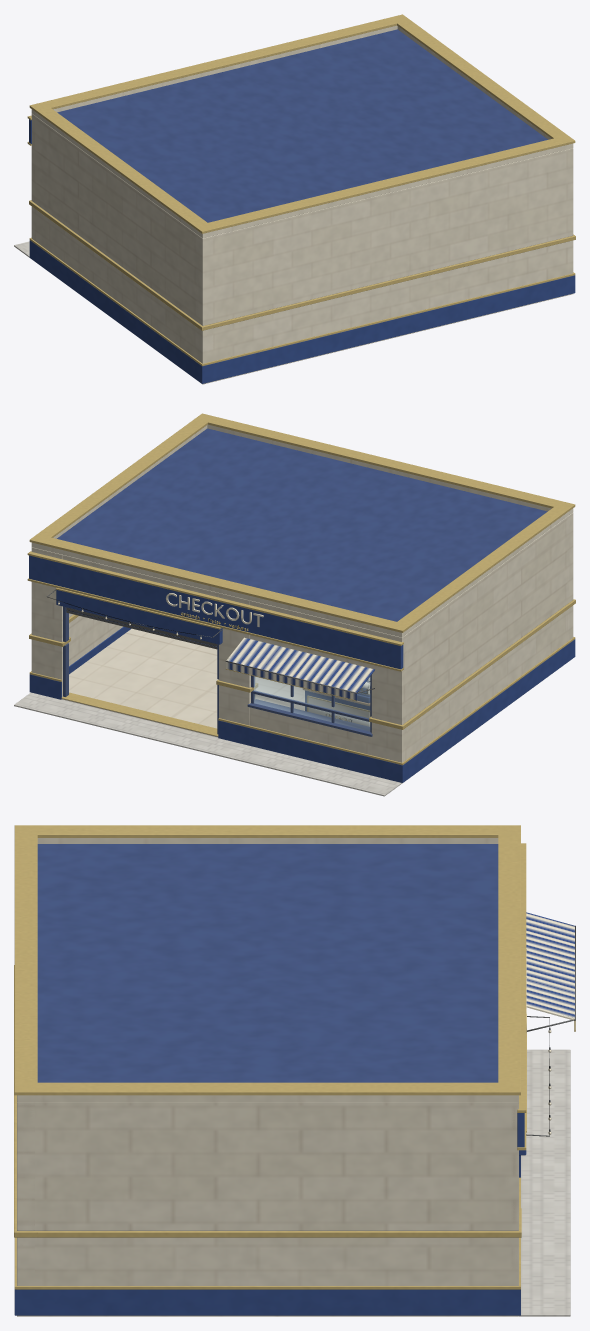
The model's file is Era5_Quitanda.fbx.
3 views of the same model, one above another, from view 1: azimuth 30°, elevation 25°; view 2: azimuth 150°, elevation 25°; view 3: azimuth 270°, elevation 25° (orthographic). The views are drawn at different scales.
Parts seen in each view (by area): view 1: CUT_ERA5_ShellTop, ERA5_Shell; view 2: CUT_ERA5_ShellTop, ERA5_Shell, CUT_ERA5_Awning, CUT_ERA5_Glass_winTop, ERA5_Counter, ERA5_Glass_win, CUT_ERA5_Sign; view 3: CUT_ERA5_ShellTop, ERA5_Shell, CUT_ERA5_Awning.
Boxes of the visible parts, <box> form: CUT_ERA5_ShellTop: <box>27,14,575,325</box>; ERA5_Shell: <box>14,200,575,384</box>; CUT_ERA5_ShellTop: <box>27,413,575,724</box>; ERA5_Shell: <box>14,599,575,796</box>; CUT_ERA5_Awning: <box>226,637,374,701</box>; CUT_ERA5_Glass_winTop: <box>254,676,370,718</box>; ERA5_Counter: <box>303,688,370,726</box>; ERA5_Glass_win: <box>254,694,370,731</box>; CUT_ERA5_Sign: <box>166,593,263,631</box>; CUT_ERA5_ShellTop: <box>14,825,526,1230</box>; ERA5_Shell: <box>14,965,570,1316</box>; CUT_ERA5_Awning: <box>526,912,575,1031</box>.
Size of the model in its own units: 8.58 by 3.37 by 7.61.
2 materials, 1 textured.
